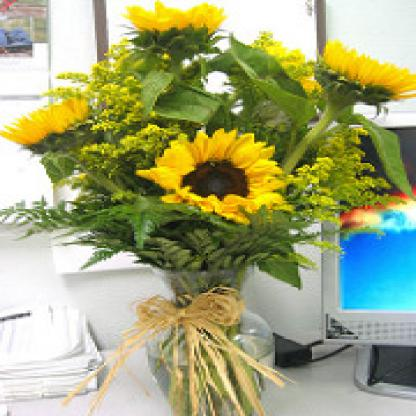SUN FLOWER: (24, 11, 412, 308)
